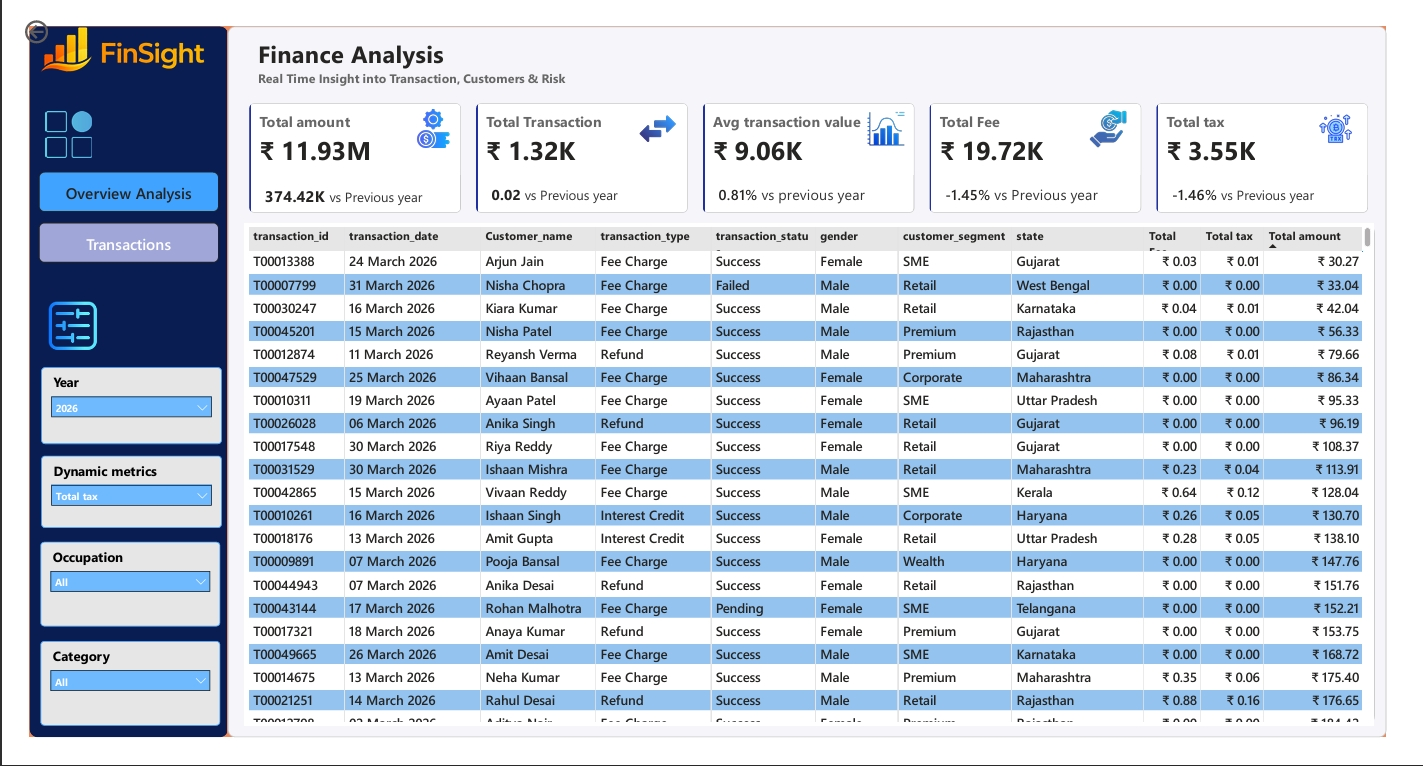

The dashboard page shown, as its layout file describes it:
{"tool":"powerbi","page":{"name":"Transactions ","canvas":[1800,950],"ordinal":1},"visuals":[{"type":"shape","box":[11.5,13.1,257.7,924.1],"z":0},{"type":"shape","box":[269.2,13.1,1506.7,924.1],"z":1000},{"type":"image","box":[0,0,269.2,87],"z":2000},{"type":"cardVisual","fields":{"Data":["customers (2).Dashboard Title"]},"box":[290.5,13.1,830.5,93.6],"z":3000},{"type":"cardVisual","fields":{"Data":["customers (2).Total amount","customers (2).Total Transaction","customers (2).Avg transaction value","customers (2).Total Fee","customers (2).Total tax"]},"box":[290.5,106.7,1470.6,154.3],"z":4000},{"type":"image","box":[508.8,121.5,54.2,49.2],"z":6000},{"type":"image","box":[801,121.5,54.2,49.2],"z":7000},{"type":"image","box":[1386.9,121.5,54.2,49.2],"z":8000},{"type":"image","box":[1098.1,121.5,54.2,49.2],"z":9000},{"type":"image","box":[1682.4,121.5,54.2,49.2],"z":10000},{"type":"shape","box":[290.5,269.2,1470.6,653.3],"z":12000},{"type":"tableEx","fields":{"Values":["finance_transactions.transaction_id","finance_transactions.transaction_date","customers (2).Customer_name","finance_transactions.transaction_type","finance_transactions.transaction_status","customers (2).gender","customers (2).customer_segment","customers (2).state","customers (2).Total Fee","customers (2).Total tax","customers (2).Total amount"]},"box":[290.5,269.2,1470.6,653.3],"z":13000},{"type":"actionButton","box":[0,0,100,40],"z":14000},{"type":"slicer","fields":{"Values":["calendar Table.Yaer"]},"box":[26.3,456.3,234.7,100.1],"z":14001},{"type":"slicer","fields":{"Values":["Dynamic metrics .Dynamic metrics "]},"box":[26.3,571.2,234.7,93.6],"z":14002},{"type":"slicer","fields":{"Values":["customers (2).occupation"]},"box":[24.6,682.8,234.7,110],"z":14003},{"type":"slicer","fields":{"Values":["finance_transactions.merchant_category"]},"box":[24.6,812.5,234.7,110],"z":14004},{"type":"pageNavigator","box":[23,201.9,234.7,119.8],"z":14005},{"type":"image","box":[23,366,87,72.2],"z":14006},{"type":"image","box":[14.8,123.1,95.2,60.7],"z":14007}]}

Visuals, with their boxes on the page's 1800x950 design canvas (x1, y1, x2, y2). These are canvas units, not pixel positions in the 1423x766 screenshot, which may show the page scaled, cropped or inside an application window:
shape: x1=12, y1=13, x2=269, y2=937
shape: x1=269, y1=13, x2=1776, y2=937
image: x1=0, y1=0, x2=269, y2=87
cardVisual - customers (2).Dashboard Title: x1=290, y1=13, x2=1121, y2=107
cardVisual - customers (2).Total amount x customers (2).Total Transaction: x1=290, y1=107, x2=1761, y2=261
image: x1=509, y1=122, x2=563, y2=171
image: x1=801, y1=122, x2=855, y2=171
image: x1=1387, y1=122, x2=1441, y2=171
image: x1=1098, y1=122, x2=1152, y2=171
image: x1=1682, y1=122, x2=1737, y2=171
shape: x1=290, y1=269, x2=1761, y2=922
tableEx - finance_transactions.transaction_id x finance_transactions.transaction_date: x1=290, y1=269, x2=1761, y2=922
actionButton: x1=0, y1=0, x2=100, y2=40
slicer - calendar Table.Yaer: x1=26, y1=456, x2=261, y2=556
slicer - Dynamic metrics .Dynamic metrics : x1=26, y1=571, x2=261, y2=665
slicer - customers (2).occupation: x1=25, y1=683, x2=259, y2=793
slicer - finance_transactions.merchant_category: x1=25, y1=812, x2=259, y2=922
pageNavigator: x1=23, y1=202, x2=258, y2=322
image: x1=23, y1=366, x2=110, y2=438
image: x1=15, y1=123, x2=110, y2=184
